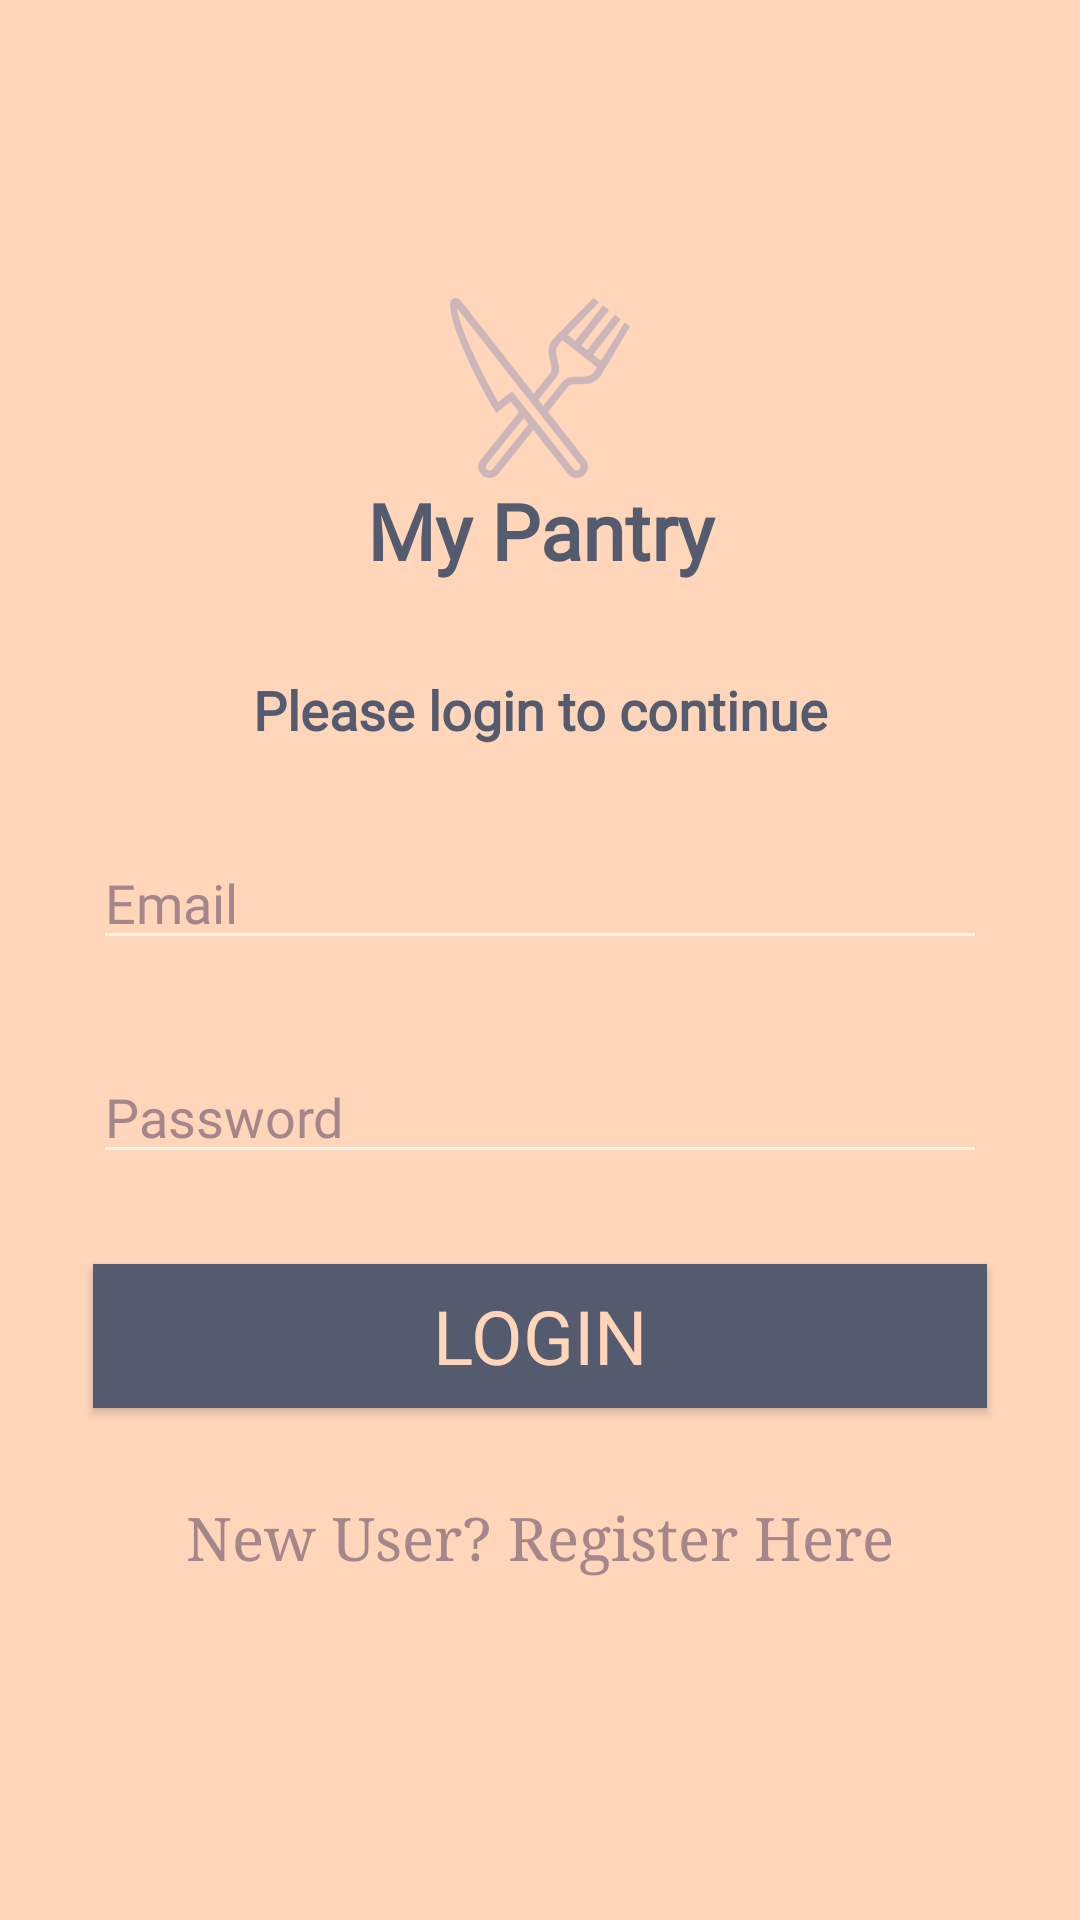

Icons on this 1080 x 1920 Android screen, each with its box as region(x1, y1, x2, y2):
cutlery: region(450, 298, 630, 478)
